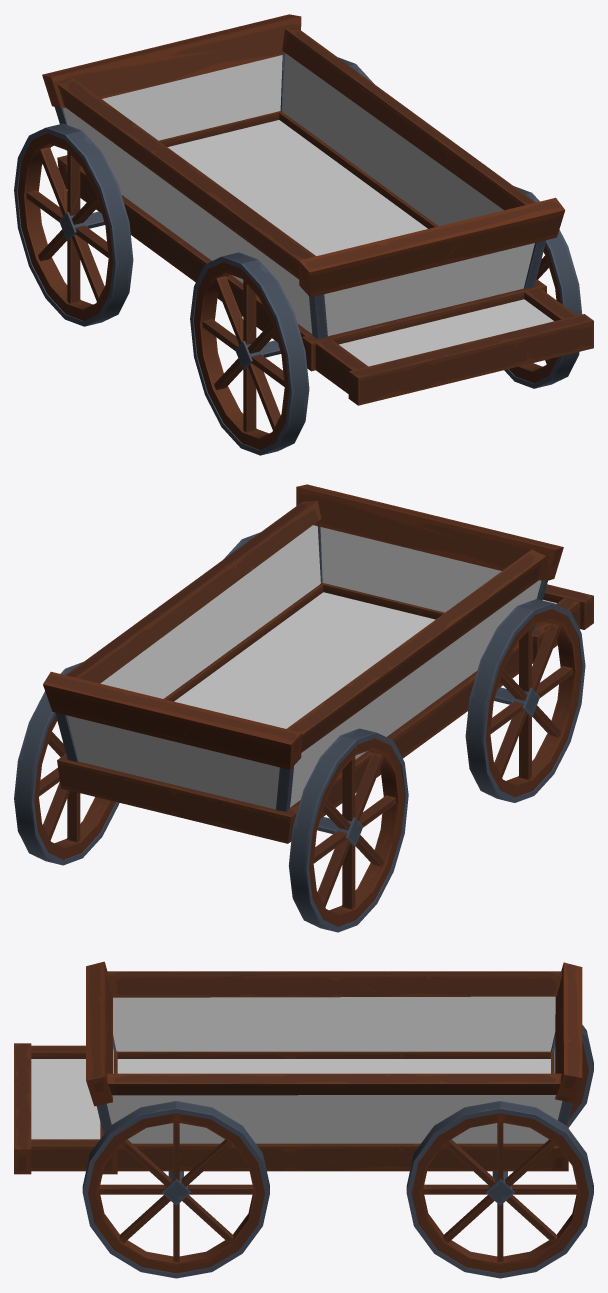
Rendered from Wagon1.fbx.
3 renders of one model, top to bottom at view 1: azimuth 30°, elevation 25°; view 2: azimuth 150°, elevation 25°; view 3: azimuth 270°, elevation 25°, orthographic. The views are drawn at different scales.
Visible parts, largest first — view 1: PlankMedium17; view 2: PlankMedium17; view 3: PlankMedium17.
Part boxes in pixels (<box>): PlankMedium17: <box>14,14,593,455</box>; PlankMedium17: <box>14,484,593,932</box>; PlankMedium17: <box>14,961,593,1278</box>.
Size of the model in its own units: 213 by 148 by 399.
